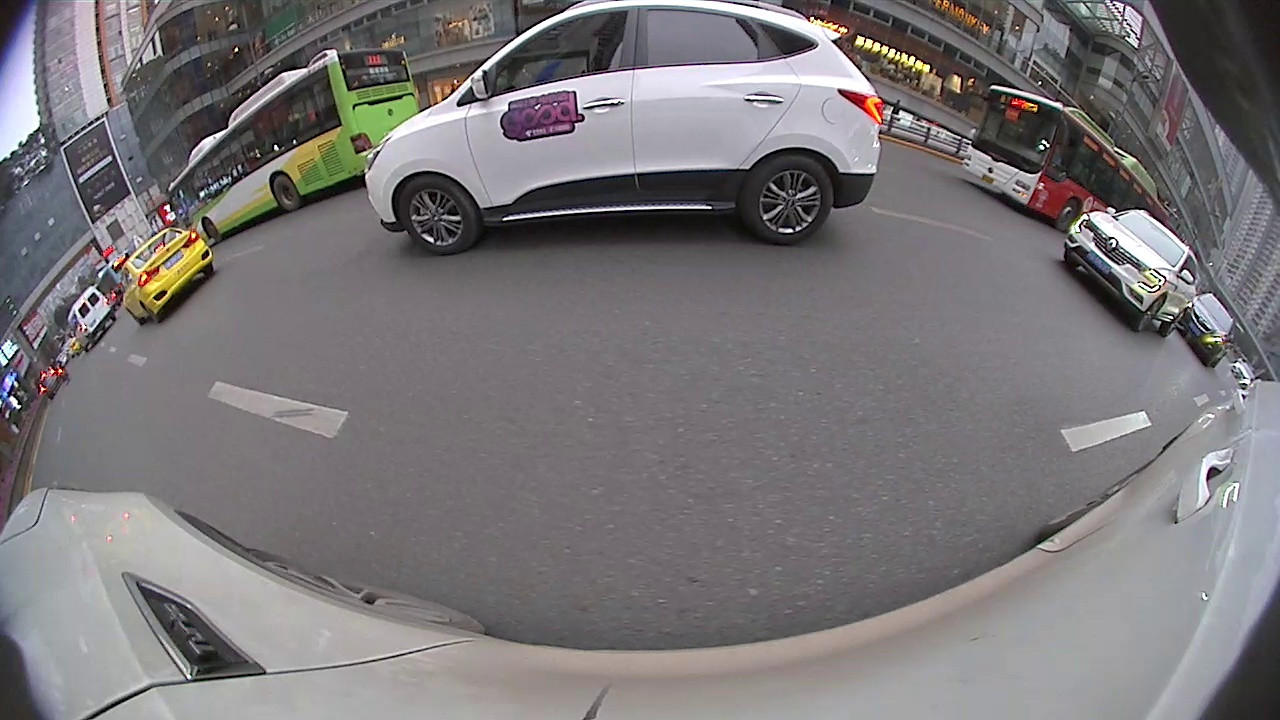bus: (172, 44, 426, 251), (962, 80, 1171, 244)
car: (361, 1, 888, 261), (1054, 207, 1201, 338), (114, 221, 221, 326), (1173, 296, 1238, 366), (68, 286, 118, 348)
front: (399, 174, 477, 252), (1133, 292, 1167, 336), (1054, 198, 1080, 233)
rear: (745, 153, 835, 245), (270, 173, 302, 212)
